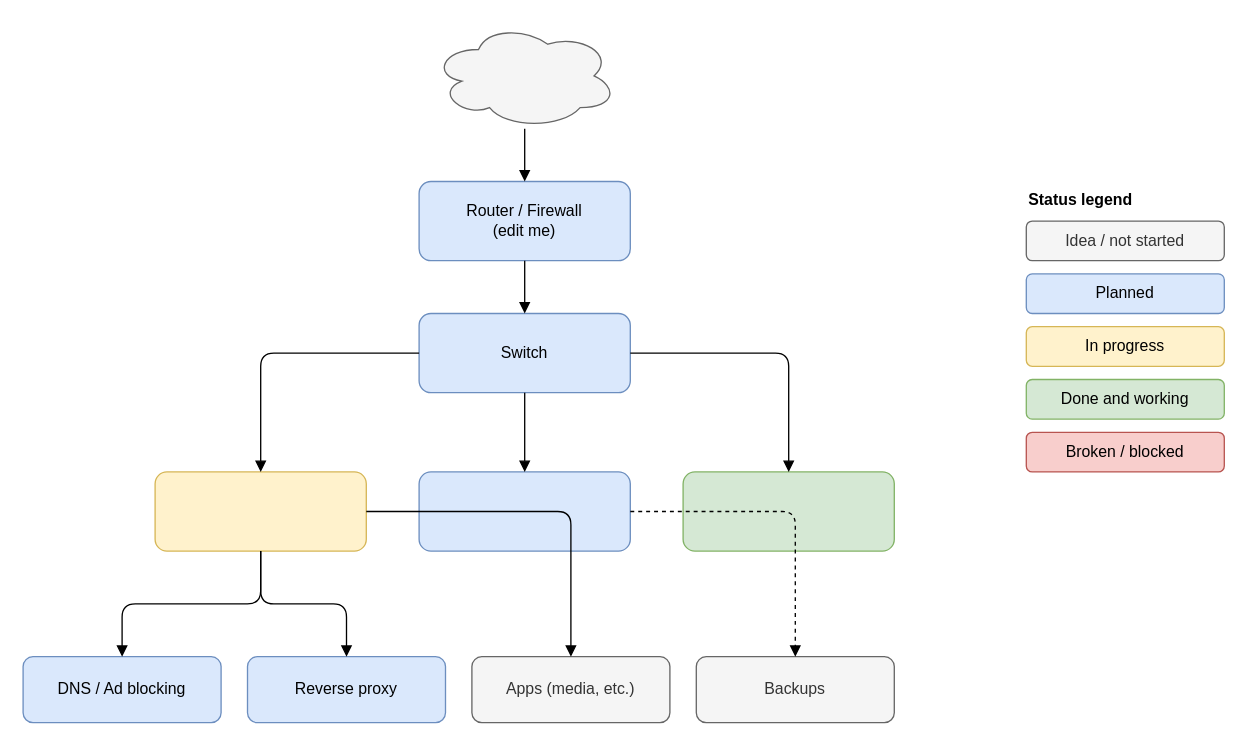
Some shapes in this 1247 by 746 pixel diagram are drawn without their labels. The box of each missing label's shape, as (x1, y1, x2, y2) in pixels:
Internet: (431, 22, 617, 129)
NAS / Storage: (418, 471, 630, 551)
Server 1 (hypervisor / host): (154, 471, 366, 551)
Wi-Fi Access Point: (682, 471, 894, 551)
